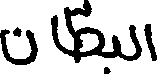ا: (50, 12, 61, 52), (144, 22, 155, 62)
ب: (103, 32, 120, 73)
ط: (63, 4, 101, 65)
ل: (127, 22, 140, 60)
ن: (0, 25, 37, 65)
